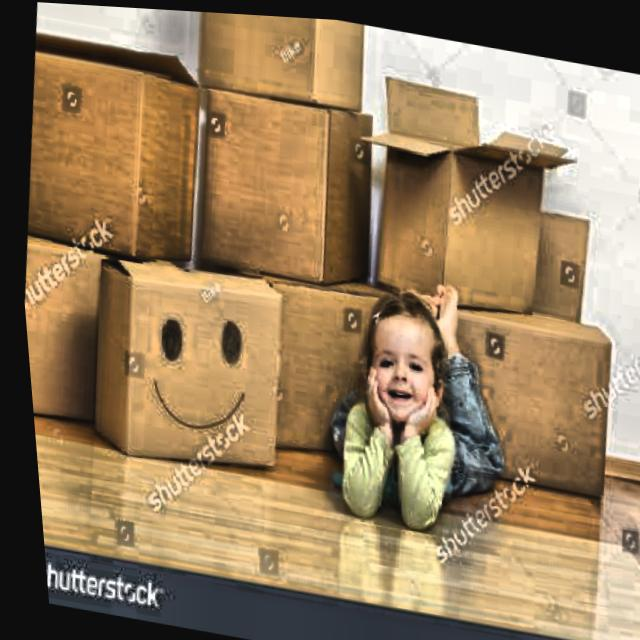Cardbox: (293, 108, 640, 563), (69, 252, 295, 480), (11, 32, 223, 265), (180, 49, 388, 284), (225, 264, 394, 467), (15, 230, 134, 442), (183, 9, 358, 109), (370, 67, 488, 152)
